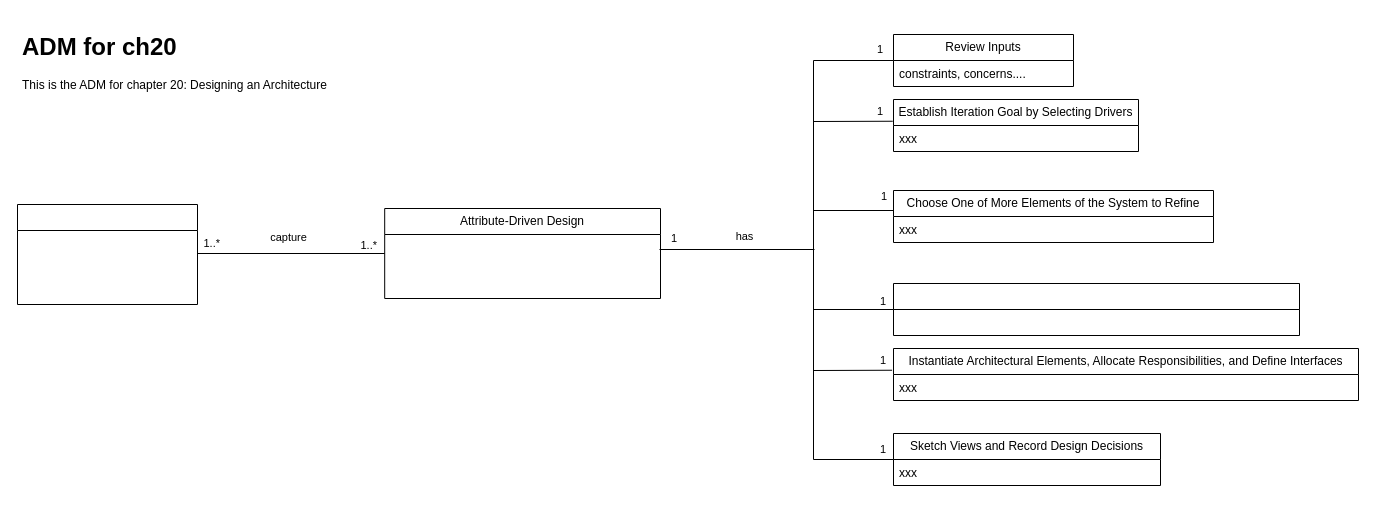
Some shapes in this 1376 by 505 pixel diagram are drawn without their labels. The shapes that lost their labels are listed below. From the top down, each one's centre as x and y in pixels, then its label:
At point 107,254: "Utility Tree".
At point 1096,309: "Choose One of More Design Concepts That Satisfy the Selected Drivers".
